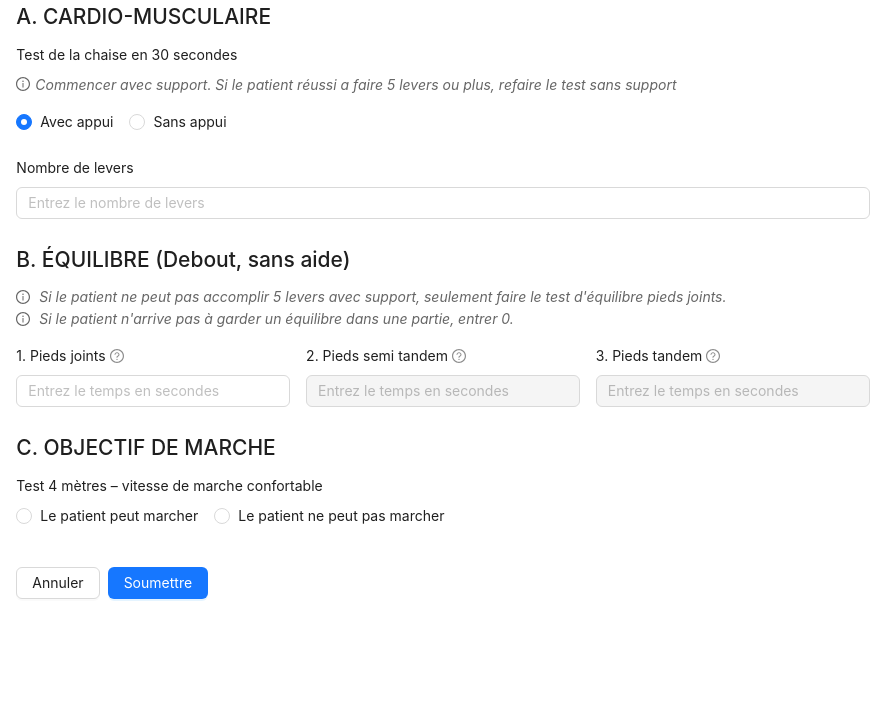
Test: EvaluationMATCH Component › Section Objectif de Marche › affiche ou masque correctement le champ du temps de marche selon la capacité du patient
The image size is (887, 704).
Click the text "Le patient peut marcher" at {"x": 119, "y": 516}, box [32,504,206,526]
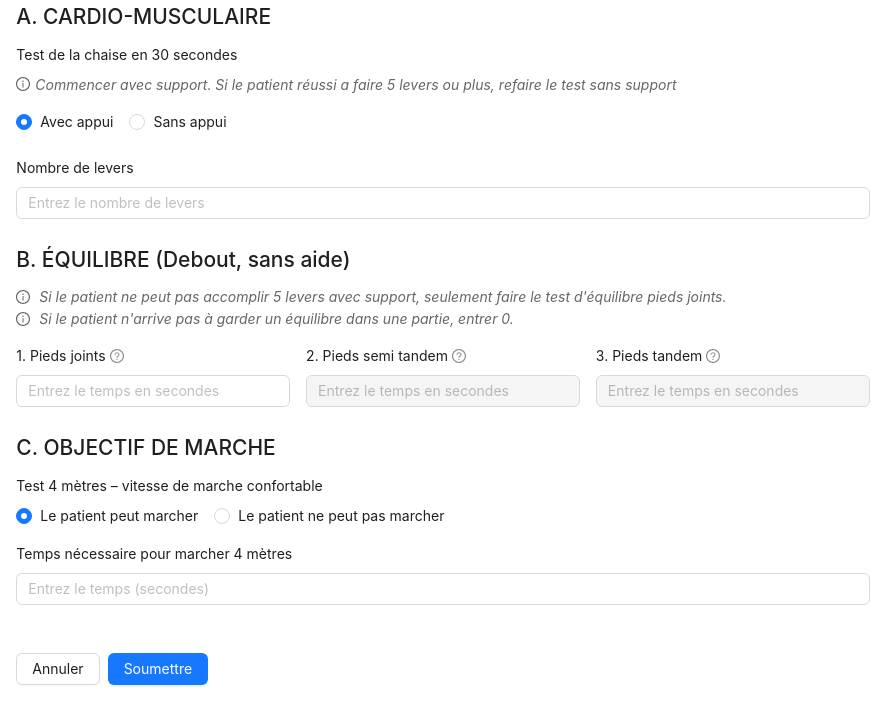
Expected: the text "Temps nécessaire pour marcher 4 mètres" is shown, [16,542,306,564]
Click the text "Le patient ne peut pas marcher" at {"x": 341, "y": 516}, box [230,504,452,526]
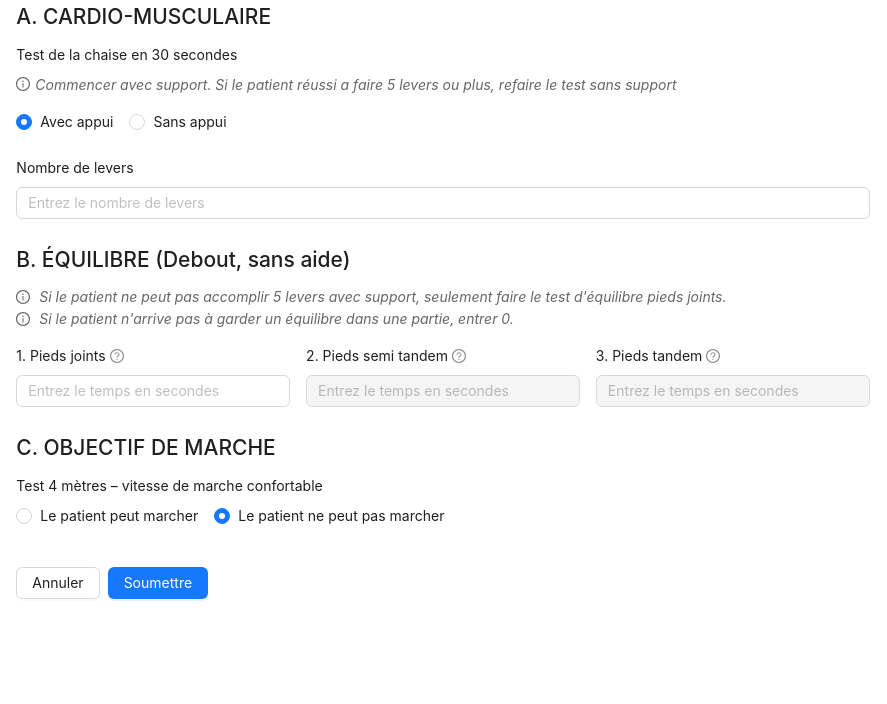
Expected: the text "Temps nécessaire pour marcher 4 mètres" is gone
